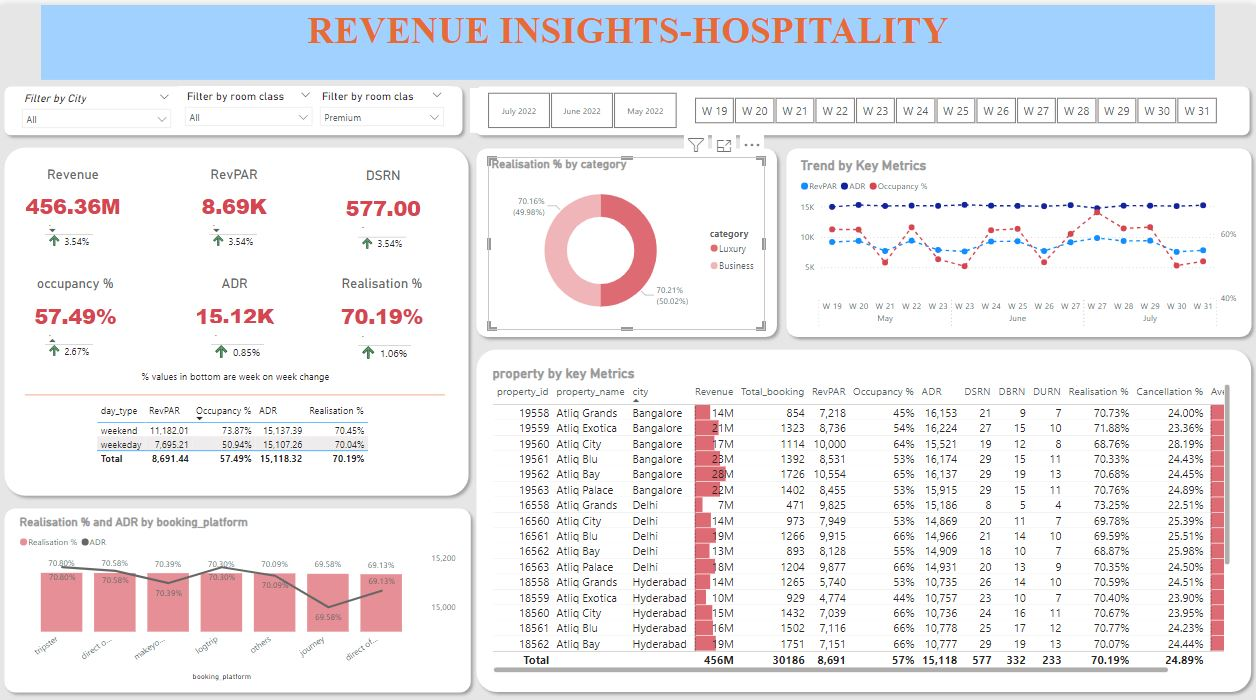

The dashboard page shown, as its layout file describes it:
{"tool":"powerbi","page":{"name":"Page 1","canvas":[1800,1100],"ordinal":0},"visuals":[{"type":"shape","box":[13.8,1015.5,1767.2,70.7],"z":0},{"type":"shape","box":[675,482.5,1125,507.5],"z":1000},{"type":"shape","box":[0,709.4,684.4,281.2],"z":2000},{"type":"shape","box":[0,193.8,681.2,515.6],"z":3000},{"type":"shape","box":[0,106.9,672.4,87.9],"z":4000},{"type":"shape","box":[672.4,106.9,1124.1,87.9],"z":5000},{"type":"shape","box":[1117.5,195,682.5,287.5],"z":6000},{"type":"shape","box":[675,195,447.5,287.5],"z":7000},{"type":"tableEx","title":"property by key Metrics","fields":{"Values":["dim_hotels.property_id","dim_hotels.property_name","dim_hotels.city","key_measures (2).Revenue","key_measures (2).Total_booking","key_measures (2).RevPAR","key_measures (2).Occupancy %","key_measures (2).ADR","key_measures (2).DSRN","key_measures (2).DBRN","key_measures (2).DURN","key_measures (2).Realisation %"]},"box":[701.7,513.8,1063.8,444.8],"z":8000},{"type":"donutChart","fields":{"Category":["dim_hotels.category"],"Y":["key_measures (2).Realisation %"]},"box":[700,216.7,395.8,247.9],"z":9000},{"type":"lineChart","title":"Trend by Key Metrics","fields":{"Category":["dim_date.mmm yy.Variation.Date Hierarchy.Month","dim_date.week no"],"Y":["key_measures (2).RevPAR","key_measures (2).ADR"],"Y2":["key_measures (2).Occupancy %"]},"box":[1141.7,216.7,633.3,252.1],"z":10000},{"type":"lineStackedColumnComboChart","fields":{"Category":["fact_bookings.booking_platform"],"Y":["key_measures (2).Realisation %"],"Y2":["key_measures (2).ADR"]},"box":[25,729.2,633.3,241.7],"z":11000},{"type":"tableEx","fields":{"Values":["dim_date.day_type","key_measures (2).RevPAR","key_measures (2).Occupancy %","key_measures (2).ADR","key_measures (2).Realisation %"]},"box":[135,564,437,129.3],"z":12000},{"type":"shape","box":[37.9,550,600,13.8],"z":13000},{"type":"textbox","box":[200,517.2,308.6,33],"z":14000},{"type":"shape","box":[14,385,632,96],"z":15000},{"type":"card","title":"occupancy %","fields":{"Values":["key_measures (2).Occupancy %"]},"box":[14,386,192,96],"z":16000},{"type":"card","title":"ADR","fields":{"Values":["key_measures (2).ADR"]},"box":[241,385,193,96],"z":17000},{"type":"card","title":"Realisation %","fields":{"Values":["key_measures (2).Realisation %"]},"box":[452,386,194,96],"z":18000},{"type":"shape","box":[30,230,615,96],"z":19000},{"type":"card","title":"Revenue","fields":{"Values":["key_measures (2).Revenue"]},"box":[30,230,154,95],"z":20000},{"type":"card","title":"RevPAR","fields":{"Values":["key_measures (2).RevPAR"]},"box":[257,230,160,95],"z":21000},{"type":"card","title":"DSRN","fields":{"Values":["key_measures (2).DSRN"]},"box":[456,231,189,96],"z":22000},{"type":"slicer","fields":{"Values":["dim_hotels.city"]},"box":[24.1,119,232.8,63.8],"z":23000},{"type":"slicer","fields":{"Values":["dim_rooms.room_class"]},"box":[256.9,115.5,201.7,67.2],"z":24000},{"type":"slicer","fields":{"Values":["dim_rooms.room_class"]},"box":[450,115.5,196.6,67.2],"z":25000},{"type":"slicer","fields":{"Values":["dim_date.week no"]},"box":[970.7,125.9,794.8,50],"z":26000},{"type":"shape","box":[61,454,540,60],"z":27000},{"type":"tableEx","fields":{"Values":["key_measures (2).Occupancy WoW change %"]},"box":[61,454,92,58],"z":28000},{"type":"tableEx","fields":{"Values":["key_measures (2).ADR WoW change %"]},"box":[298,454,92,58.6],"z":29000},{"type":"tableEx","fields":{"Values":["key_measures (2).Realisation WoW change %"]},"box":[509,455,92,58],"z":30000},{"type":"tableEx","fields":{"Values":["key_measures (2).Revpar WoW change %"]},"box":[61,297,92,58],"z":31000},{"type":"tableEx","fields":{"Values":["key_measures (2).Revpar WoW change %"]},"box":[296,297,92,58],"z":32000},{"type":"tableEx","fields":{"Values":["key_measures (2).Revpar WoW change %"]},"box":[509,297,92,58],"z":33000},{"type":"textbox","box":[358.6,1032.8,1172.4,31],"z":34000},{"type":"slicer","fields":{"Values":["dim_date.MONTH"]},"box":[674.3,118.6,318.6,64.3],"z":35000},{"type":"textbox","box":[61.4,0,1677.1,107.1],"z":36000}]}

Visuals, with their boxes on the page's 1800x1100 design canvas (x1, y1, x2, y2). These are canvas units, not pixel positions in the 1256x700 screenshot, which may show the page scaled, cropped or inside an application window:
shape: select_region(14, 1016, 1781, 1086)
shape: select_region(675, 482, 1800, 990)
shape: select_region(0, 709, 684, 991)
shape: select_region(0, 194, 681, 709)
shape: select_region(0, 107, 672, 195)
shape: select_region(672, 107, 1796, 195)
shape: select_region(1118, 195, 1800, 482)
shape: select_region(675, 195, 1122, 482)
"property by key Metrics" tableEx: select_region(702, 514, 1766, 959)
donutChart - dim_hotels.category x key_measures (2).Realisation %: select_region(700, 217, 1096, 465)
"Trend by Key Metrics" lineChart: select_region(1142, 217, 1775, 469)
lineStackedColumnComboChart - fact_bookings.booking_platform x key_measures (2).Realisation %: select_region(25, 729, 658, 971)
tableEx - dim_date.day_type x key_measures (2).RevPAR: select_region(135, 564, 572, 693)
shape: select_region(38, 550, 638, 564)
textbox: select_region(200, 517, 509, 550)
shape: select_region(14, 385, 646, 481)
"occupancy %" card: select_region(14, 386, 206, 482)
"ADR" card: select_region(241, 385, 434, 481)
"Realisation %" card: select_region(452, 386, 646, 482)
shape: select_region(30, 230, 645, 326)
"Revenue" card: select_region(30, 230, 184, 325)
"RevPAR" card: select_region(257, 230, 417, 325)
"DSRN" card: select_region(456, 231, 645, 327)
slicer - dim_hotels.city: select_region(24, 119, 257, 183)
slicer - dim_rooms.room_class: select_region(257, 116, 459, 183)
slicer - dim_rooms.room_class: select_region(450, 116, 647, 183)
slicer - dim_date.week no: select_region(971, 126, 1766, 176)
shape: select_region(61, 454, 601, 514)
tableEx - key_measures (2).Occupancy WoW change %: select_region(61, 454, 153, 512)
tableEx - key_measures (2).ADR WoW change %: select_region(298, 454, 390, 513)
tableEx - key_measures (2).Realisation WoW change %: select_region(509, 455, 601, 513)
tableEx - key_measures (2).Revpar WoW change %: select_region(61, 297, 153, 355)
tableEx - key_measures (2).Revpar WoW change %: select_region(296, 297, 388, 355)
tableEx - key_measures (2).Revpar WoW change %: select_region(509, 297, 601, 355)
textbox: select_region(359, 1033, 1531, 1064)
slicer - dim_date.MONTH: select_region(674, 119, 993, 183)
textbox: select_region(61, 0, 1738, 107)
